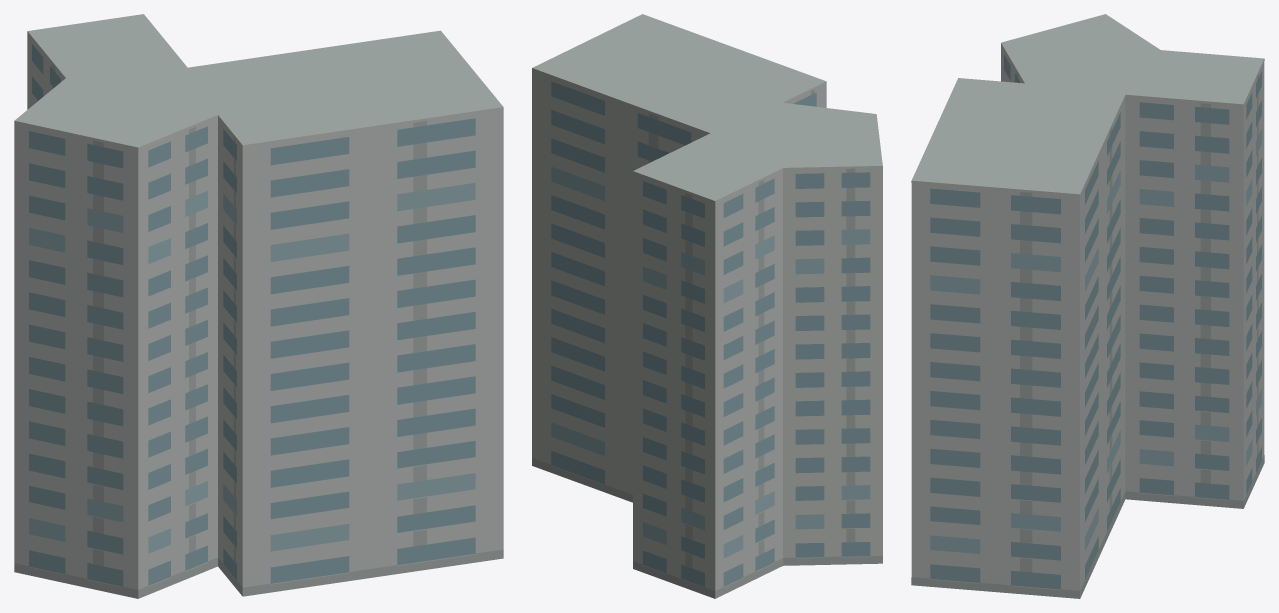
File: residential-67efdc8b-34d4-4ef1-8cfe-e903b27cf10c.glb
The picture shows the model from 3 angles, left to right: view 1: azimuth 30°, elevation 25°; view 2: azimuth 150°, elevation 25°; view 3: azimuth 270°, elevation 25°; orthographic projection. The views are drawn at different scales.
Parts seen in each view (by area): view 1: residential-67efdc8b-34d4-4ef1-8cfe-e903b27cf10c.tmp; view 2: residential-67efdc8b-34d4-4ef1-8cfe-e903b27cf10c.tmp; view 3: residential-67efdc8b-34d4-4ef1-8cfe-e903b27cf10c.tmp.
Boxes of the visible parts, bbox=[...] form: residential-67efdc8b-34d4-4ef1-8cfe-e903b27cf10c.tmp: bbox=[14, 14, 503, 598]; residential-67efdc8b-34d4-4ef1-8cfe-e903b27cf10c.tmp: bbox=[532, 14, 882, 598]; residential-67efdc8b-34d4-4ef1-8cfe-e903b27cf10c.tmp: bbox=[911, 14, 1264, 598].
Bounding box in the file's own units: 40.15 × 42 × 33.22.
